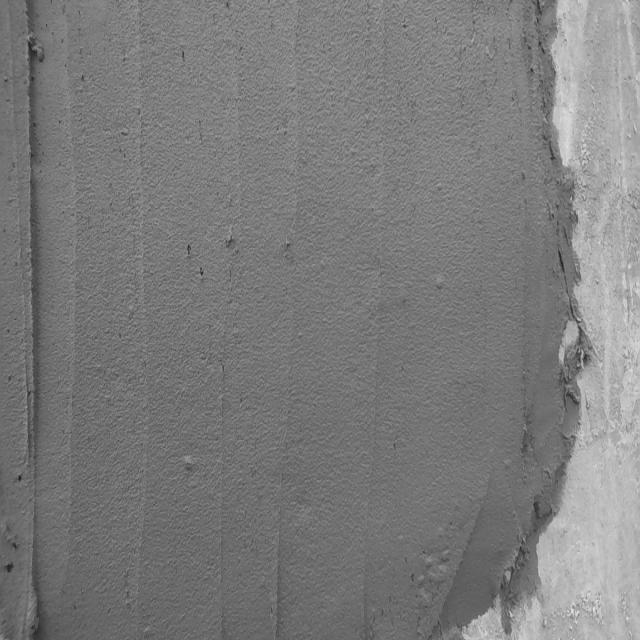trowels marks: (10, 0, 47, 640), (211, 387, 228, 640), (268, 463, 286, 637)
